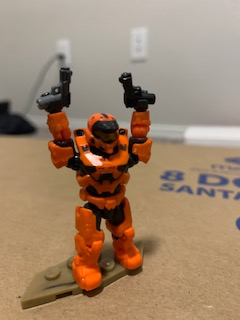pistol: (36, 64, 75, 114), (116, 70, 158, 109)
spartan: (34, 91, 157, 292)
up: (38, 92, 155, 198)
